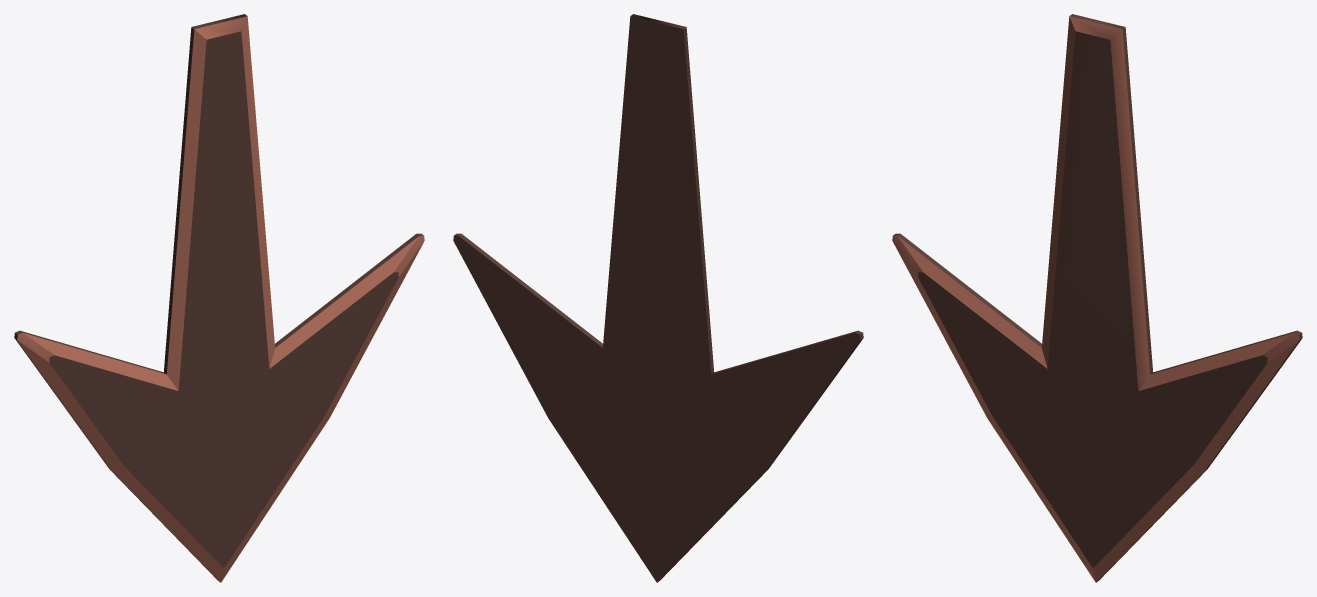
Rendered from Errow.fbx.
3 renders of one model, left to right at view 1: azimuth 30°, elevation 25°; view 2: azimuth 150°, elevation 25°; view 3: azimuth 330°, elevation 25°, orthographic.
Visible parts, largest first — view 1: Errow; view 2: Errow; view 3: Errow.
Boxes of the visible parts, left/top/right/bottom form: Errow: left=14, top=14, right=424, bottom=582; Errow: left=453, top=14, right=863, bottom=582; Errow: left=892, top=14, right=1302, bottom=582.
Size of the model in its own units: 0.0376 by 0.0494 by 0.000963.
1 material, 1 textured.
